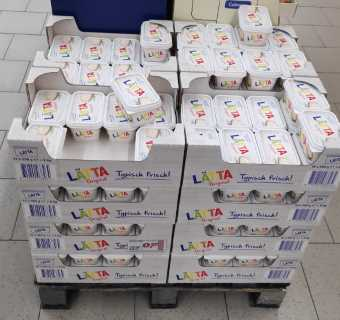laetta: (111, 70, 163, 125), (297, 109, 340, 161), (284, 77, 330, 120), (66, 91, 104, 140), (255, 127, 297, 167), (235, 3, 272, 47), (103, 94, 135, 144), (218, 127, 261, 164), (28, 87, 68, 125), (211, 46, 246, 87), (245, 49, 278, 90), (140, 20, 172, 62), (214, 93, 252, 128), (135, 127, 173, 162), (249, 93, 285, 128), (181, 91, 215, 126), (80, 35, 112, 66), (47, 33, 80, 62), (179, 46, 212, 72), (177, 21, 207, 48), (280, 49, 310, 76), (112, 35, 138, 66), (207, 21, 235, 47), (79, 62, 108, 85), (65, 186, 98, 200), (102, 187, 135, 201), (219, 187, 252, 201), (255, 188, 288, 202)
